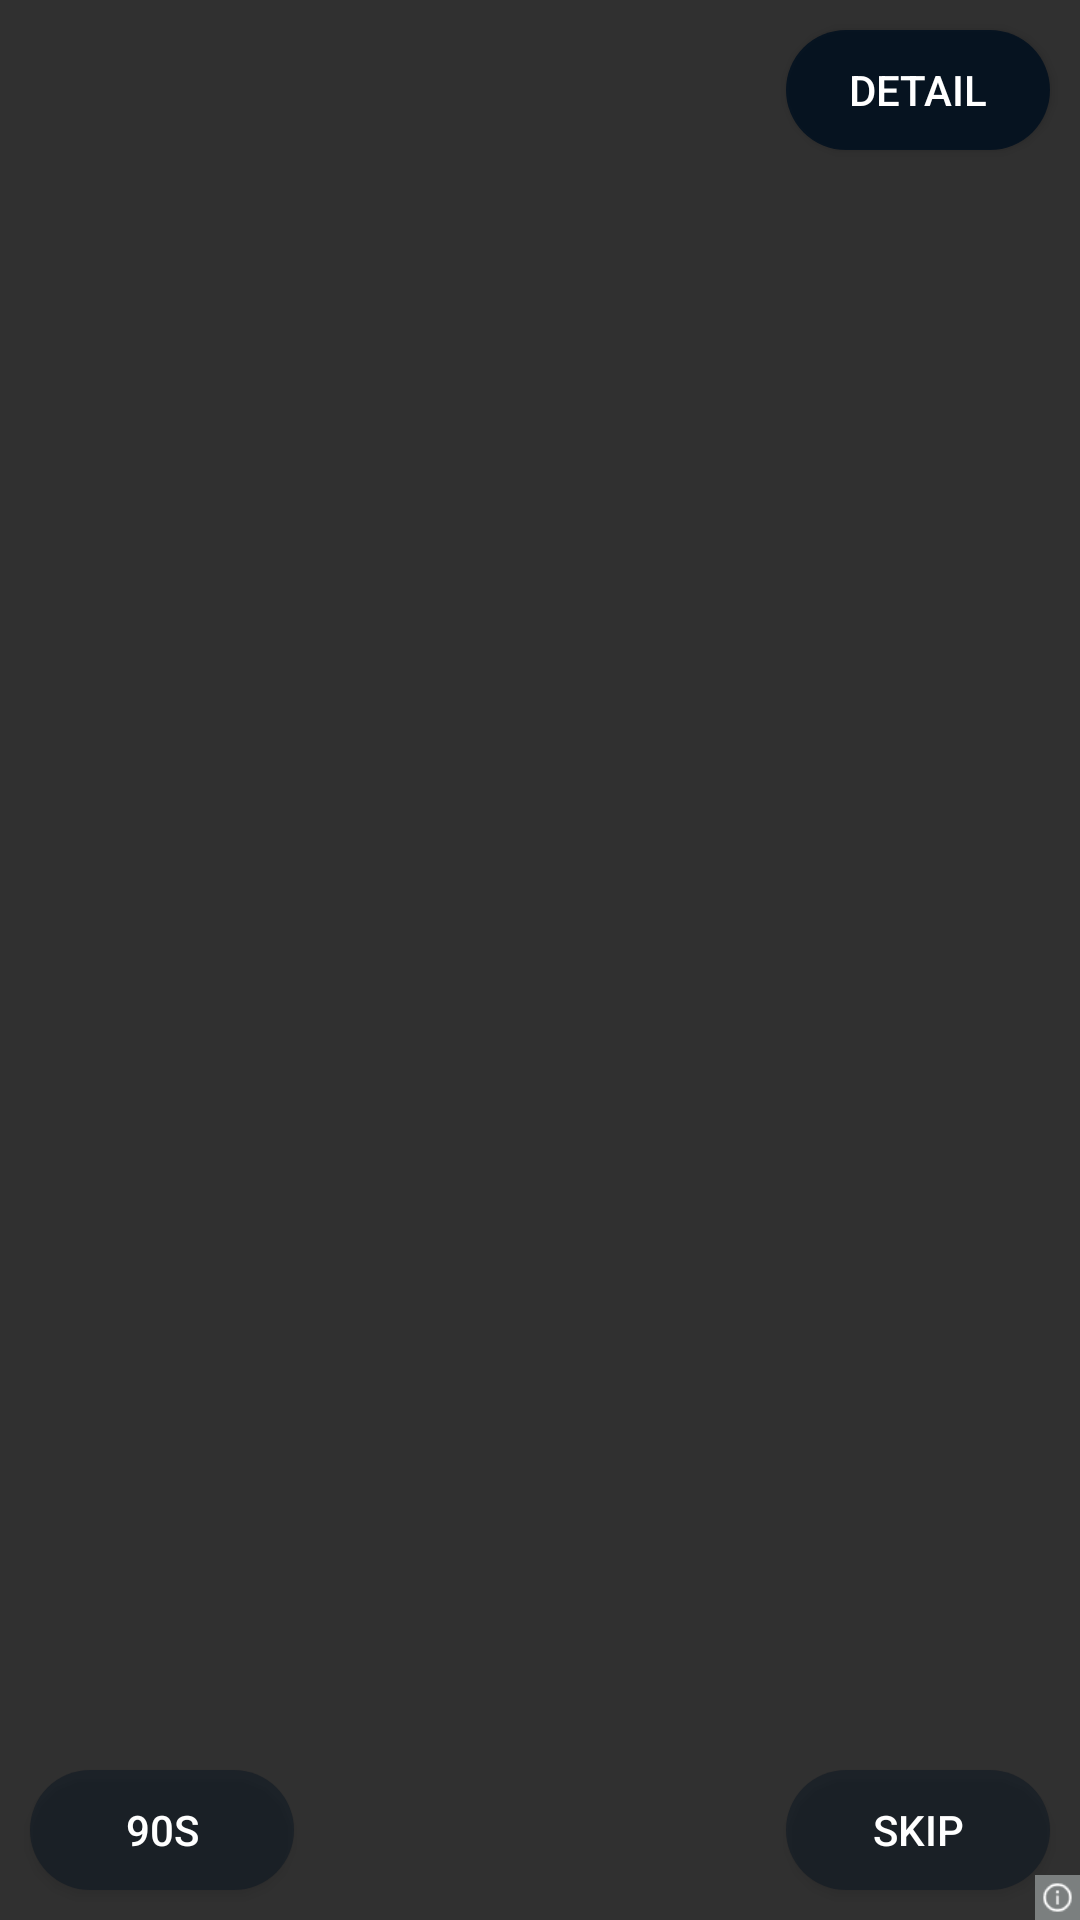

Screen size 1080w x 1920h. Icon name, then its box in pixels as (x1, y1, x2, y2):
inner ad tips: (1035, 1875, 1080, 1920)
